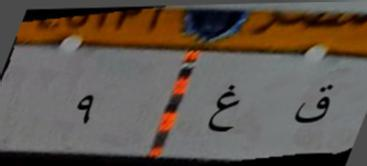9: (70, 88, 107, 132)
ghayn: (204, 76, 249, 140)
qaaf: (291, 80, 342, 132)
